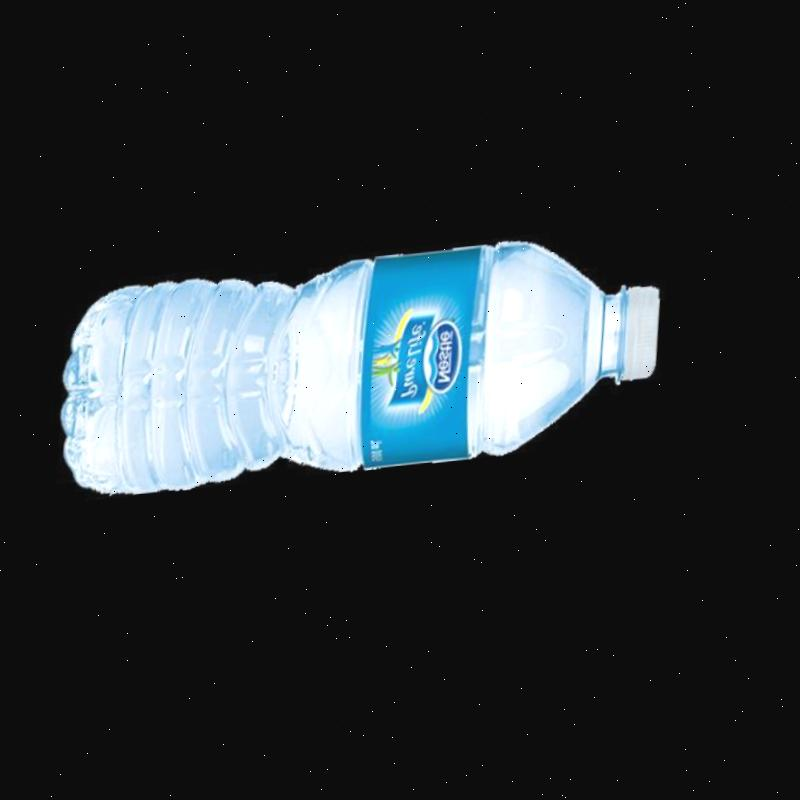botella: (56, 234, 680, 505)
